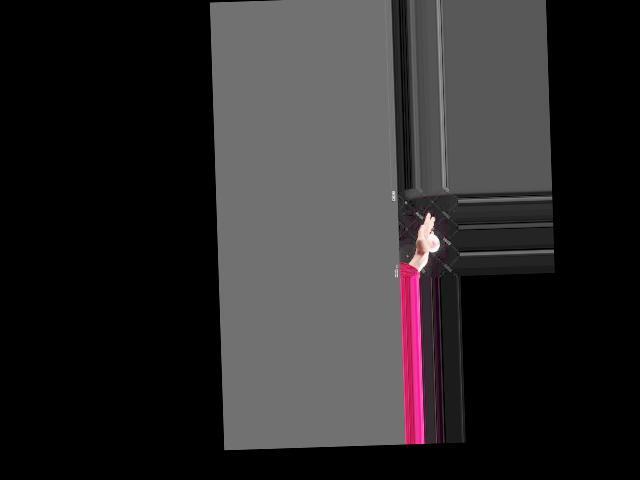egg: (427, 234, 439, 253)
